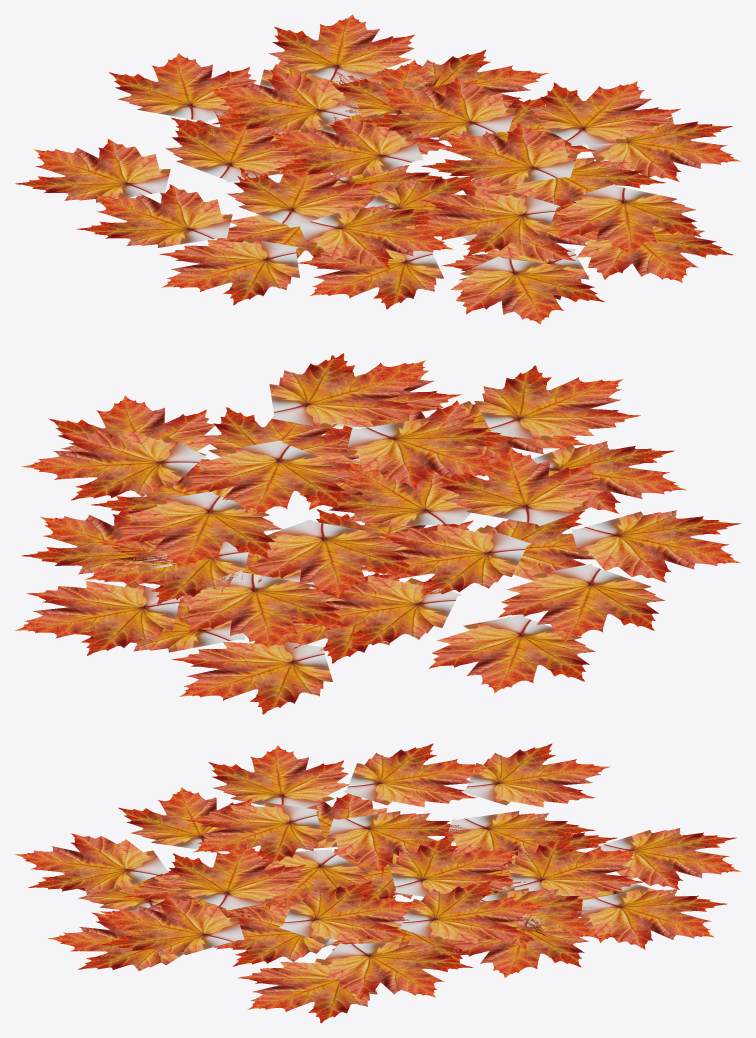
File: Leaf Asset.fbx
The picture shows the model from 3 angles, top to bottom: view 1: azimuth 30°, elevation 25°; view 2: azimuth 150°, elevation 25°; view 3: azimuth 270°, elevation 25°; orthographic projection. The views are drawn at different scales.
Parts seen in each view (by area): view 1: Cube.001; view 2: Cube.001; view 3: Cube.001.
Boxes of the visible parts, x1,y1,x2,y2 form: Cube.001: [14, 14, 741, 324]; Cube.001: [15, 353, 740, 714]; Cube.001: [15, 743, 741, 1023].
Size of the model in its own units: 1372 by 33.18 by 1506.
